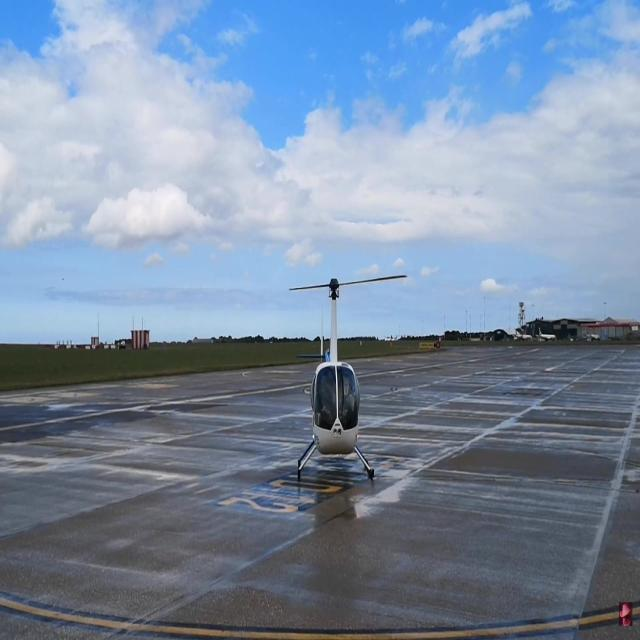CIV_HELO: (296, 276, 376, 485)
